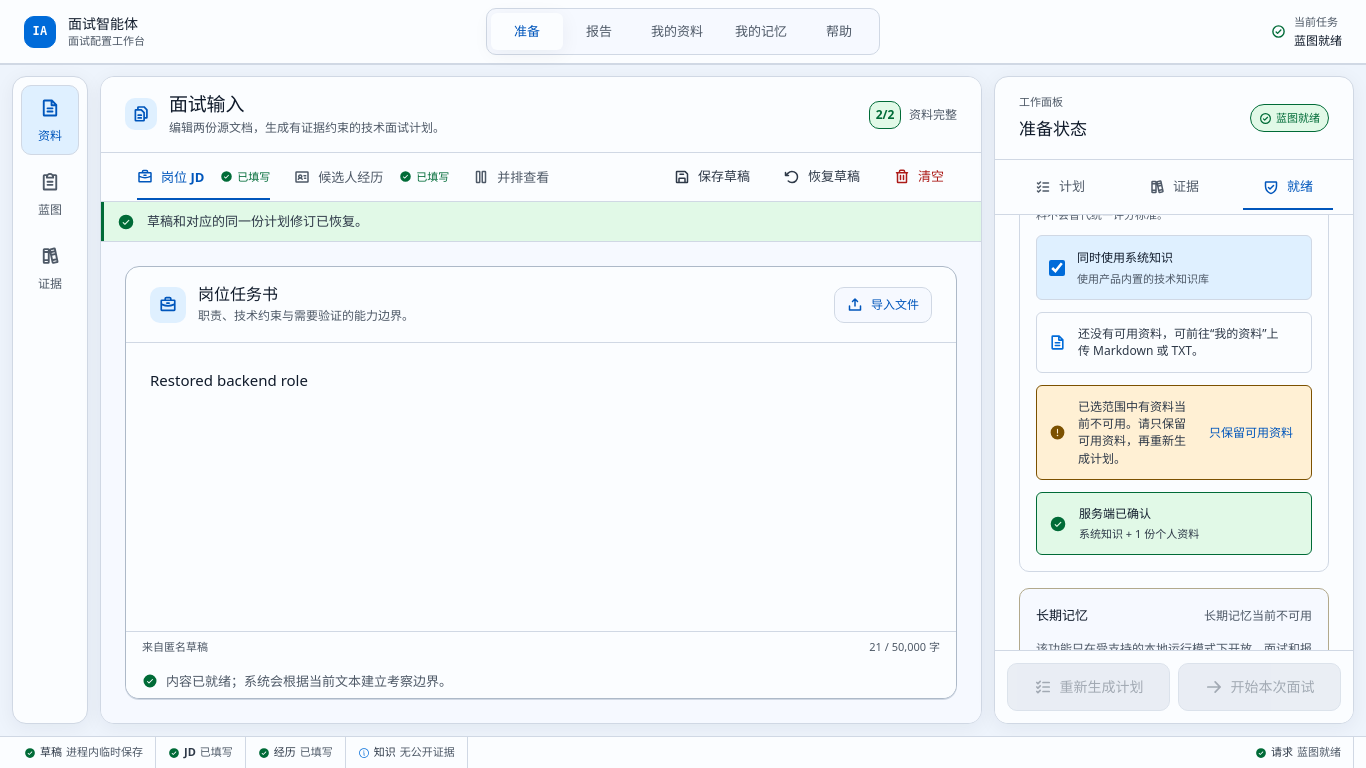
Scenario: StartPage editable plan workflow › requires an explicit user action to remove a missing restored material
The width and height of the screenshot is (1366, 768).
(page scrolled)
expect the text "草稿和对应的同一份计划修订已恢复。" is shown: met, box left=147, top=212, right=368, bottom=230
expect the text "已选范围中有资料当前不可用。请只保留可用资料，再重新生成计划。" is shown: met, box left=1078, top=398, right=1191, bottom=467
Click the button "只保留可用资料".
click(1251, 432)  # box left=1203, top=408, right=1299, bottom=456
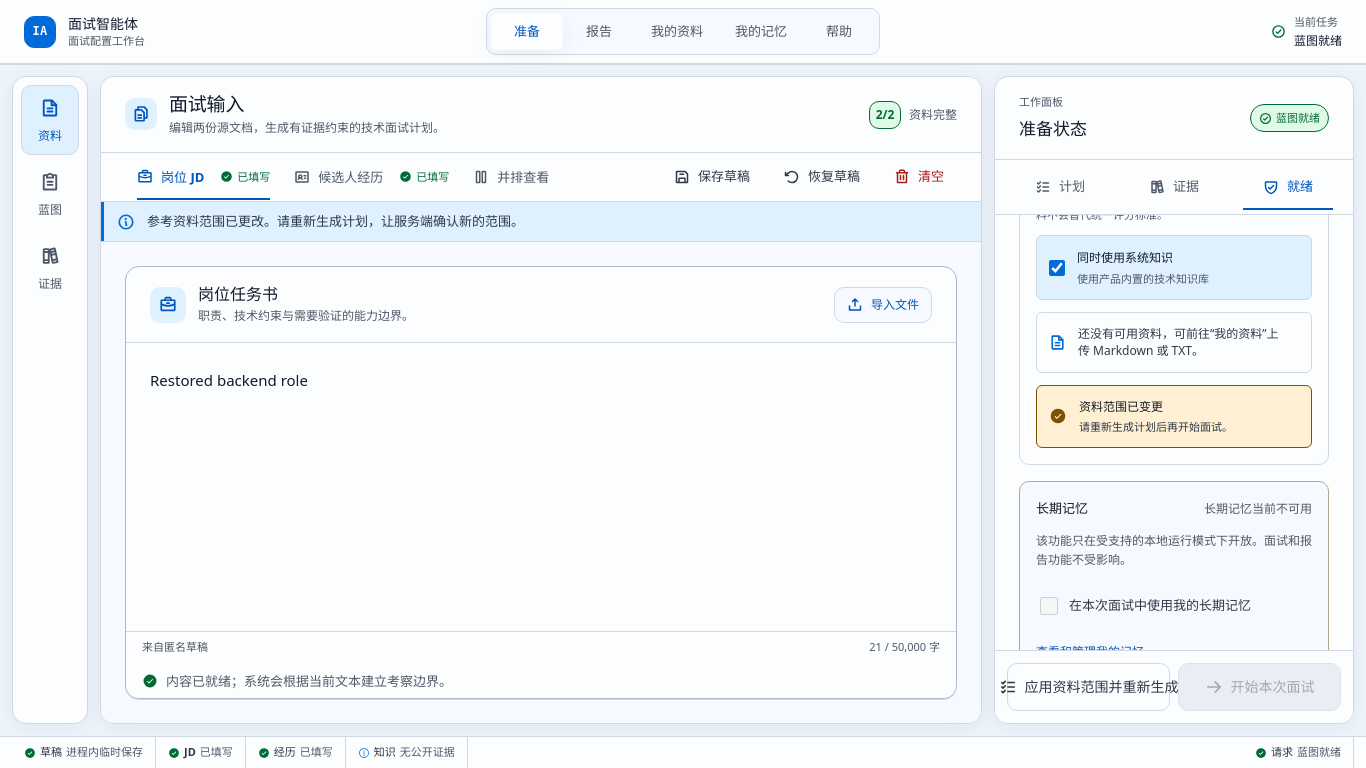
expect the button "开始本次面试" is disabled: met, box left=1178, top=663, right=1341, bottom=711
expect the text "已选范围中有资料当前不可用" is gone: met
expect the text "资料范围已变更" is shown: met, box left=1079, top=398, right=1163, bottom=414
